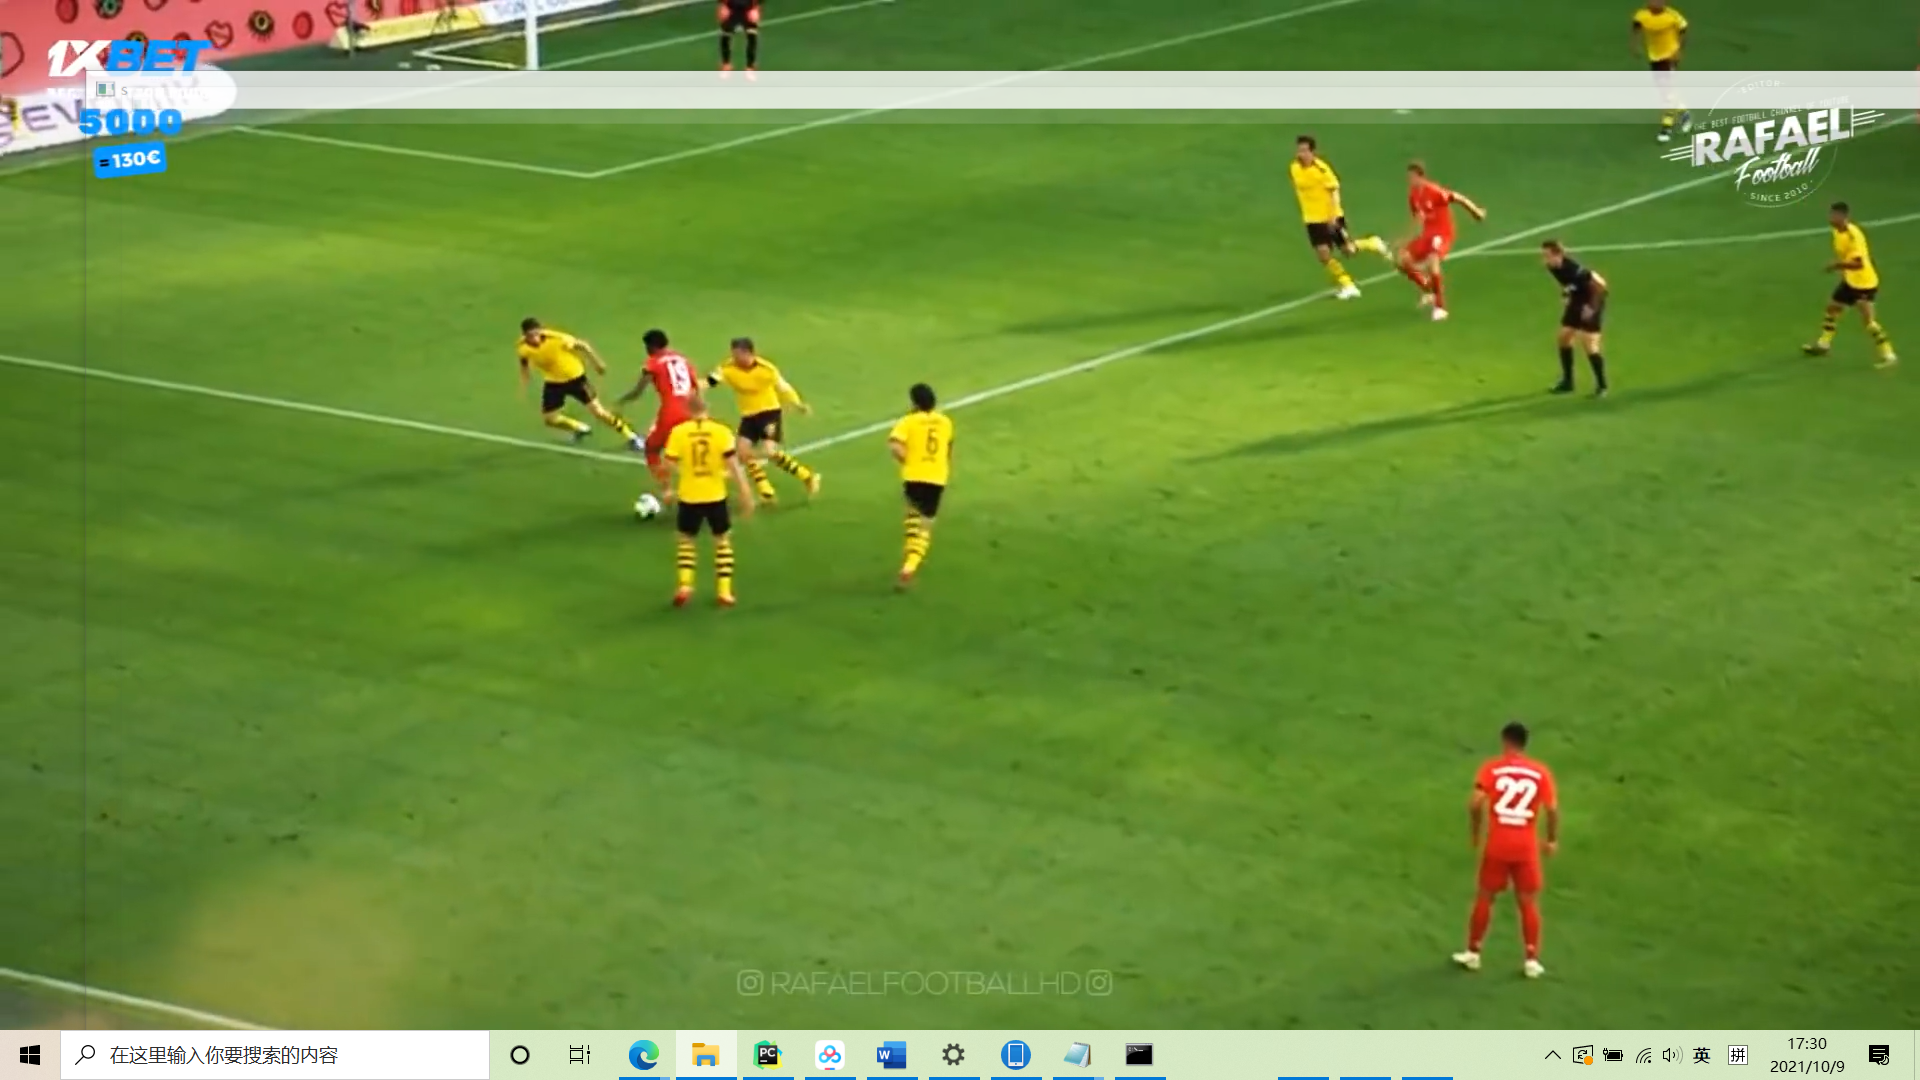ft: (633, 493, 659, 522)
